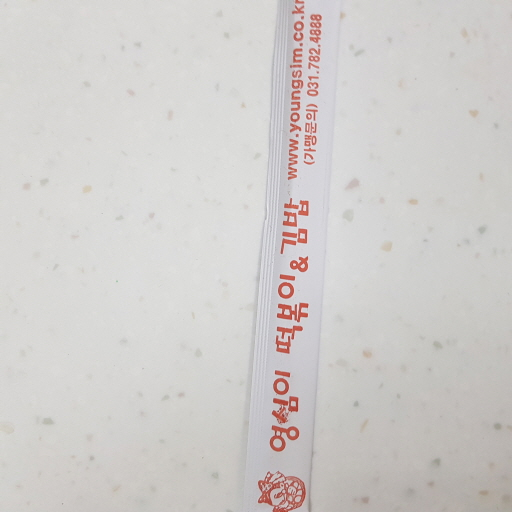Paper_2: (244, 2, 339, 512)
